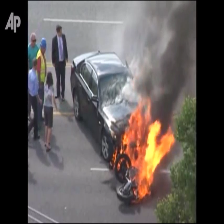fire_h: (119, 96, 175, 199)
fire_l: (110, 146, 118, 170), (116, 156, 130, 169)
